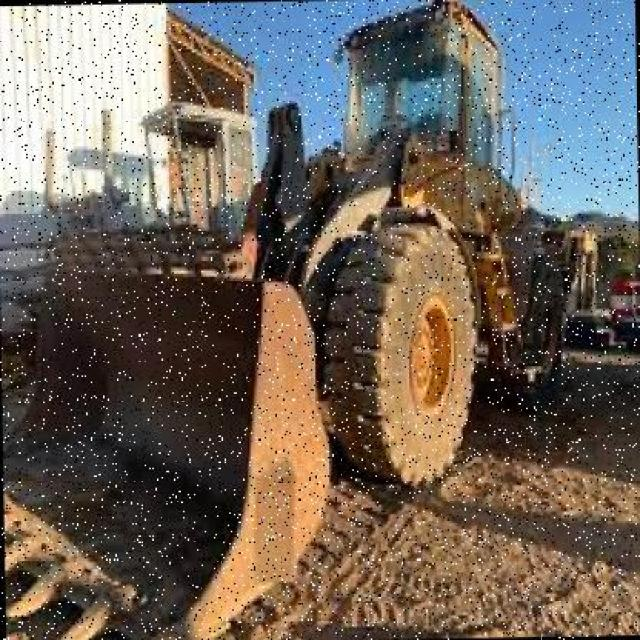buldozerpayloadergrader: (0, 1, 572, 636)
